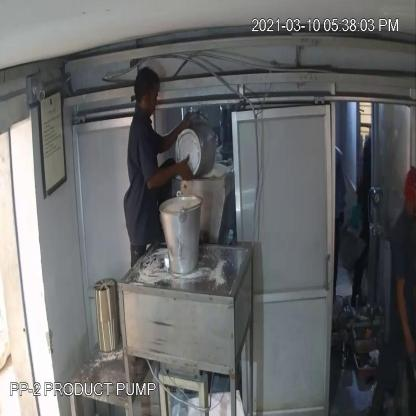no_glove: (147, 150, 193, 198), (151, 112, 191, 153)
